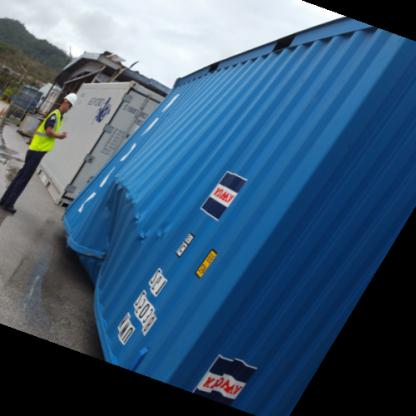Damage: (66, 169, 184, 297)
